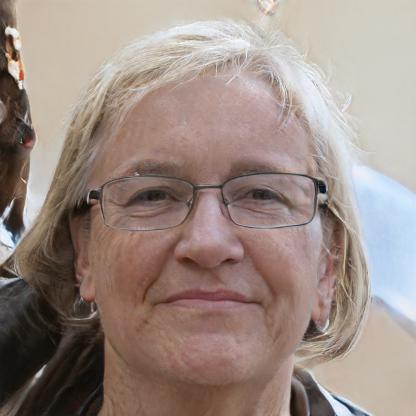glasses: (90, 170, 321, 240)
